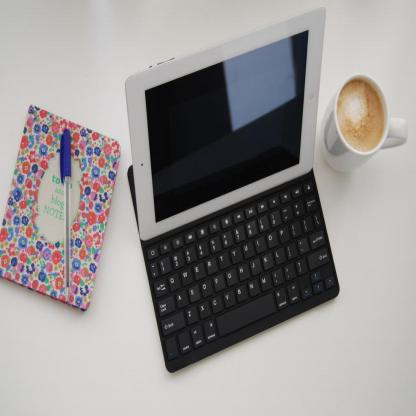board: (126, 6, 341, 372)
